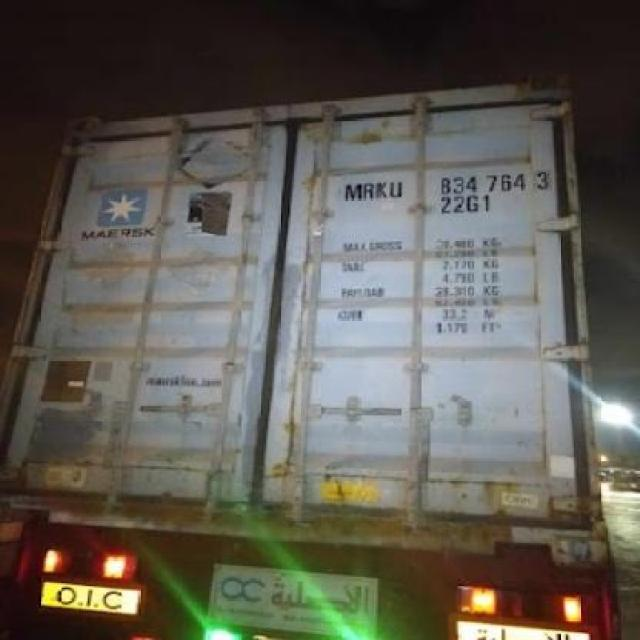ISO: (445, 195, 491, 214)
container_number: (346, 170, 558, 200)
